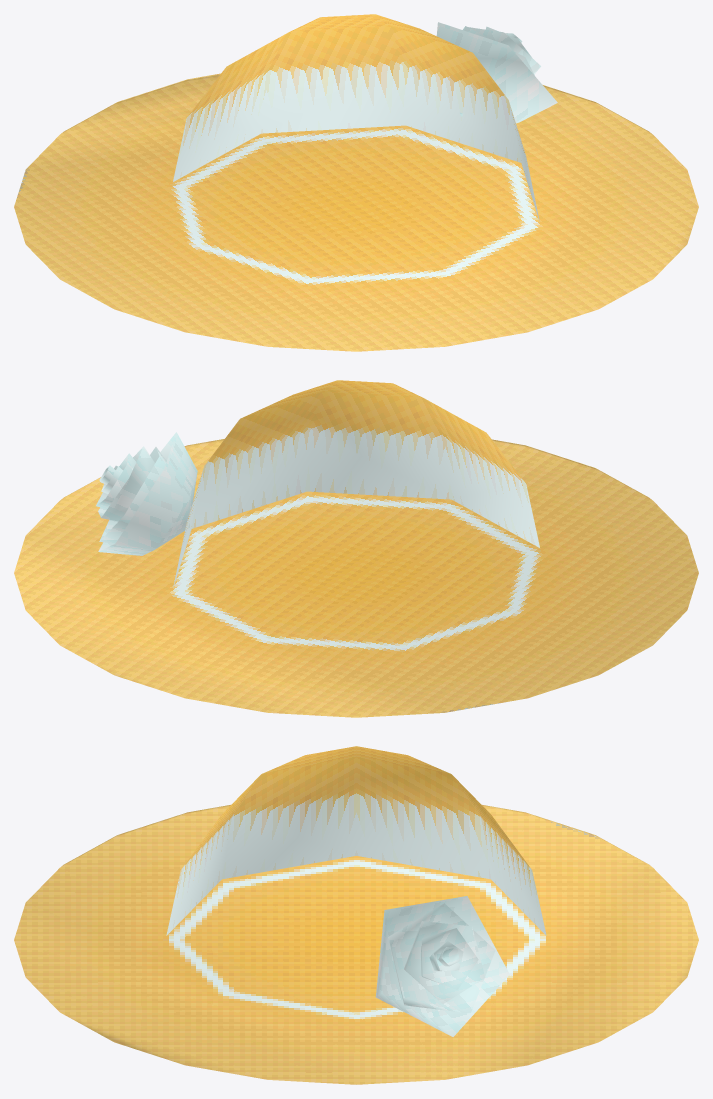
The model's file is ps2_save-icons_natsuzoranomonologue.glb.
3 renders of one model, top to bottom at view 1: azimuth 30°, elevation 25°; view 2: azimuth 150°, elevation 25°; view 3: azimuth 270°, elevation 25°, orthographic.
Parts seen in each view (by area): view 1: SAVE.ICO; view 2: SAVE.ICO; view 3: SAVE.ICO.
Boxes of the visible parts, box(x1,y1,x2,y2) form: SAVE.ICO: box(14, 14, 698, 351); SAVE.ICO: box(14, 380, 698, 717); SAVE.ICO: box(14, 746, 698, 1084).
Size of the model in its own units: 4.5 by 1.28 by 4.5.
1 material, 1 textured.
